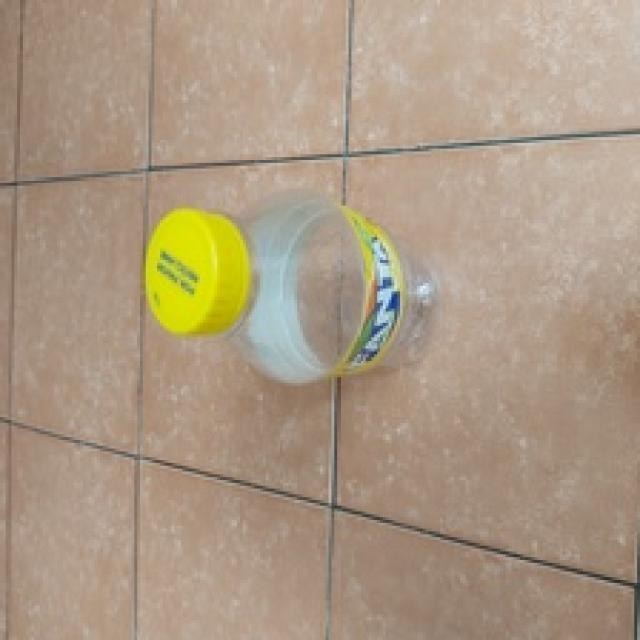Plastic: (140, 190, 438, 382)
